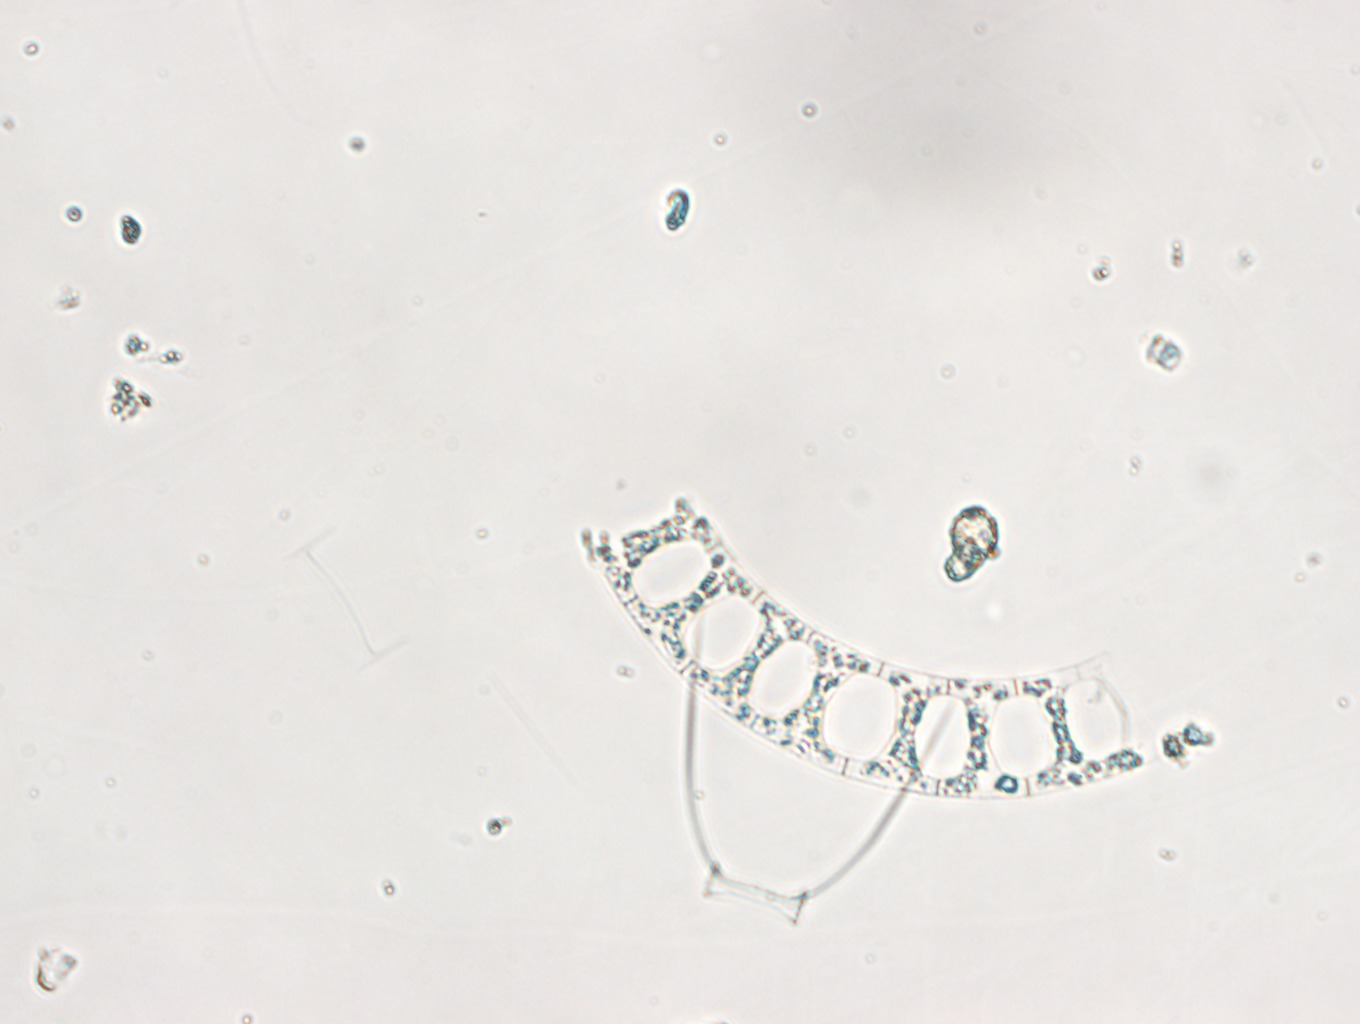chaetoceros: (683, 618, 970, 926)
eucampia: (577, 495, 1218, 799)
